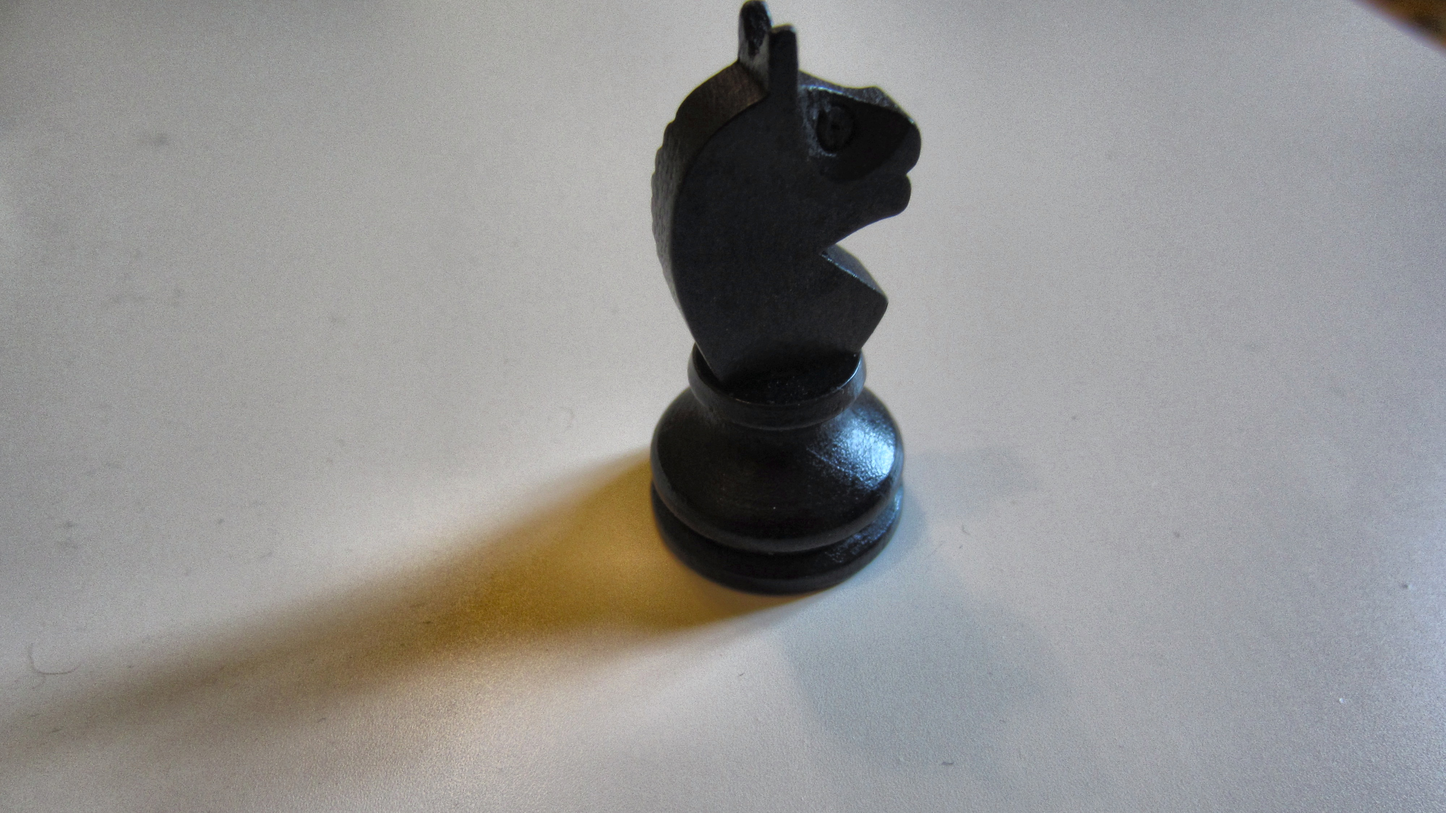black-knight: (642, 0, 925, 604)
